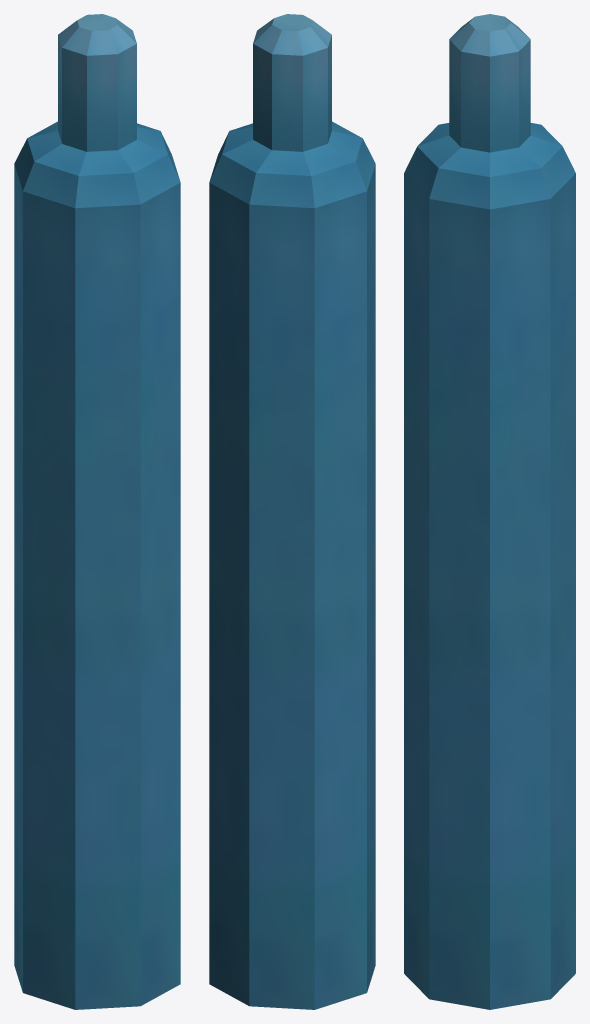
The model's file is gas_cylinder.fbx.
3 renders of one model, left to right at view 1: azimuth 30°, elevation 25°; view 2: azimuth 150°, elevation 25°; view 3: azimuth 270°, elevation 25°, orthographic.
Visible parts, largest first — view 1: GasCylinder; view 2: GasCylinder; view 3: GasCylinder.
Boxes of the visible parts, x1,y1,x2,y2 form: GasCylinder: (14,14,180,1009); GasCylinder: (209,14,375,1009); GasCylinder: (404,14,575,1009).
Size of the model in its own units: 17.78 by 108 by 17.78.
1 material, 1 textured.
